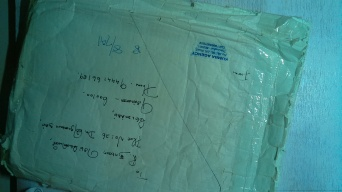l: (12, 1, 307, 189)
